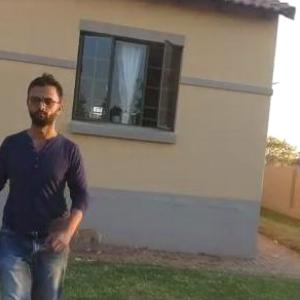follow: (0, 61, 94, 299)
